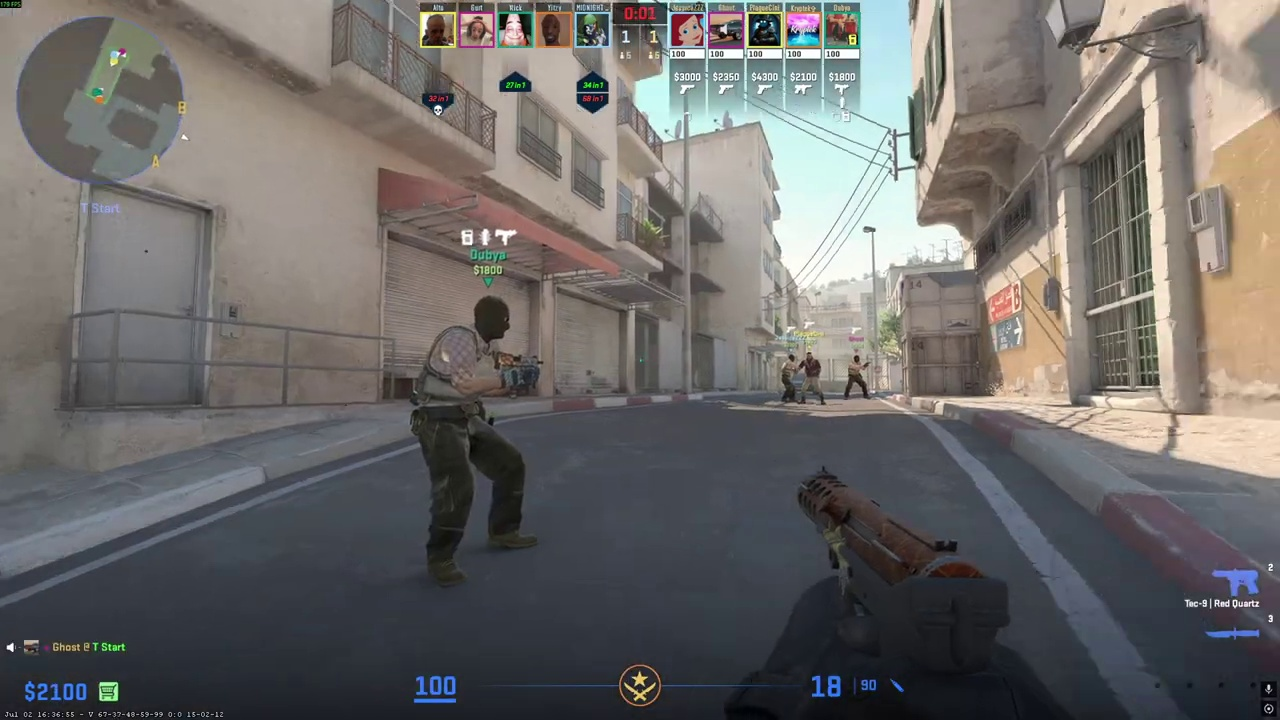Terrorist: (413, 294, 537, 589), (800, 352, 826, 405), (844, 355, 869, 400), (780, 354, 801, 403)
